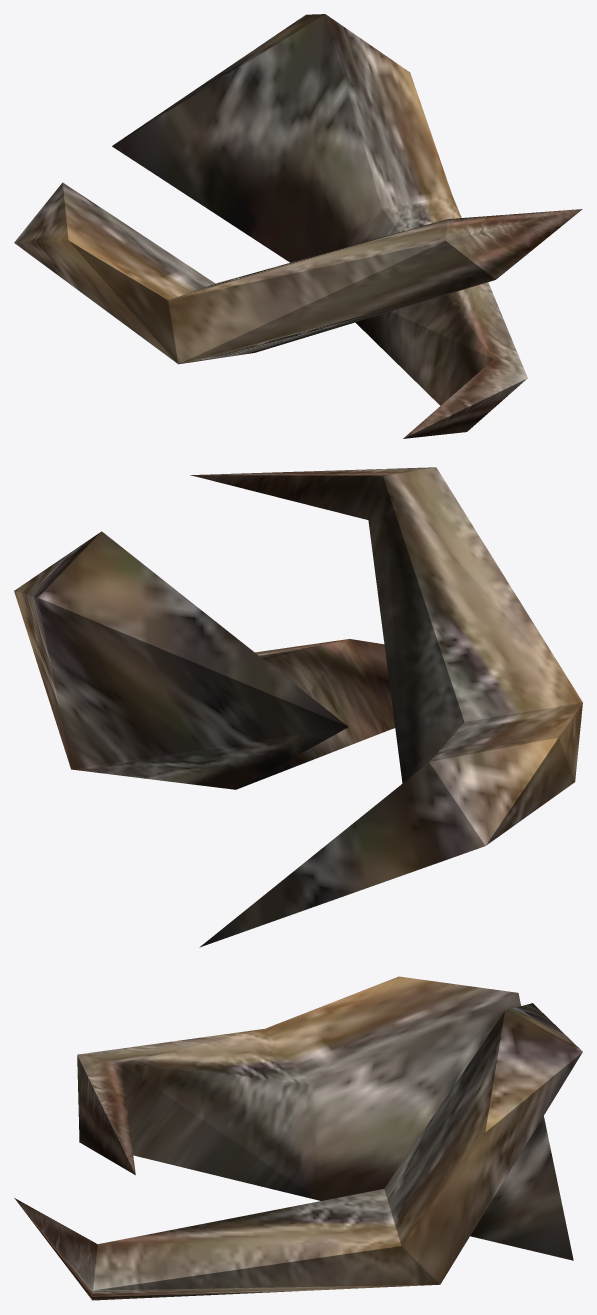
File: ITAT_BUGMANDIBLES.glb
The picture shows the model from 3 angles, top to bottom: view 1: azimuth 30°, elevation 25°; view 2: azimuth 150°, elevation 25°; view 3: azimuth 270°, elevation 25°; orthographic projection. The views are drawn at different scales.
Visible parts, largest first — view 1: ITAT_BUGMANDIBLES; view 2: ITAT_BUGMANDIBLES; view 3: ITAT_BUGMANDIBLES.
Boxes of the visible parts, x1,y1,x2,y2 form: ITAT_BUGMANDIBLES: [14, 14, 582, 438]; ITAT_BUGMANDIBLES: [14, 467, 582, 947]; ITAT_BUGMANDIBLES: [14, 976, 582, 1300].
Size of the model in its own units: 0.4959 by 0.3271 by 0.5399.
Materials: 1 (1 with a texture image).
